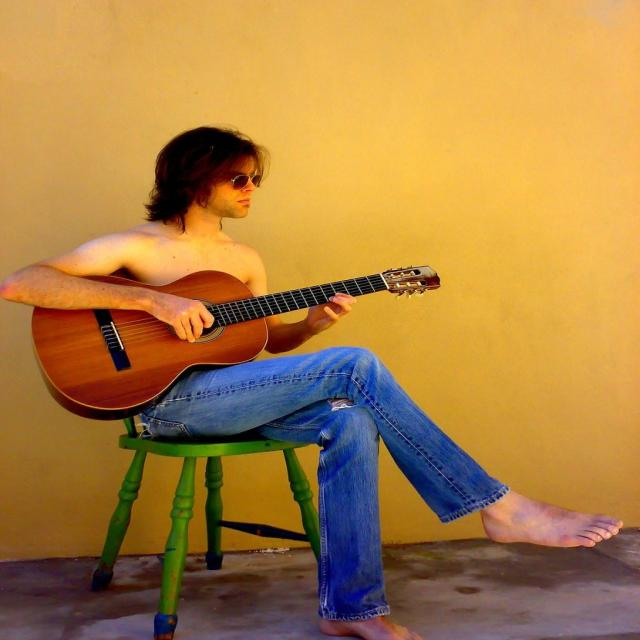guitar: (30, 265, 444, 419)
